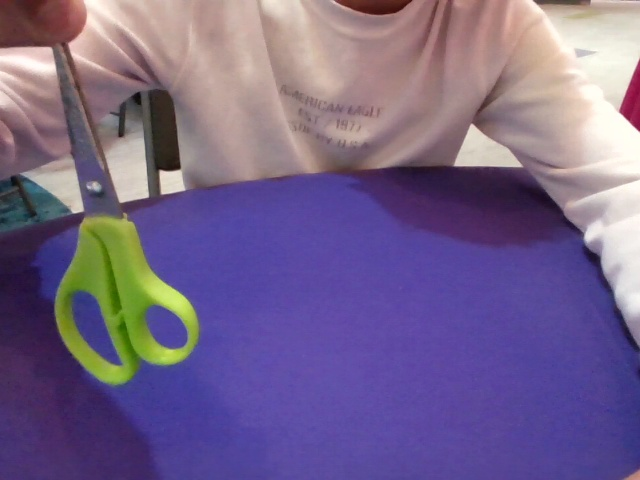tijeras: (53, 40, 200, 386)
